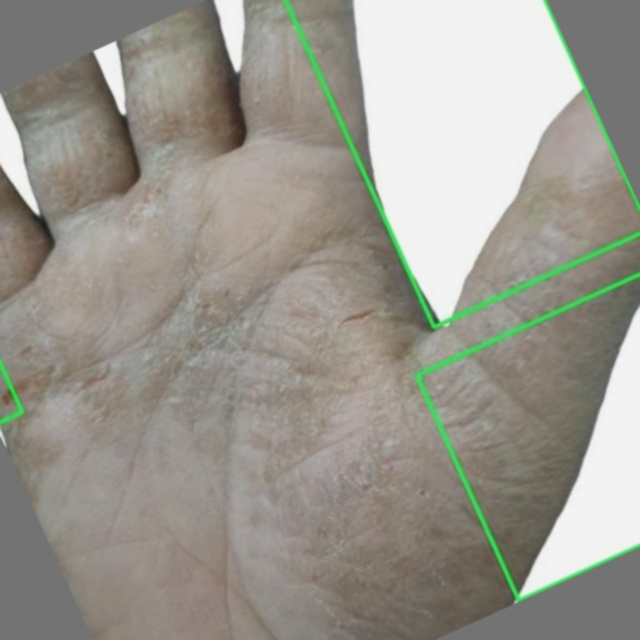Contact Dermatitis: (285, 0, 639, 327), (416, 274, 639, 600)
